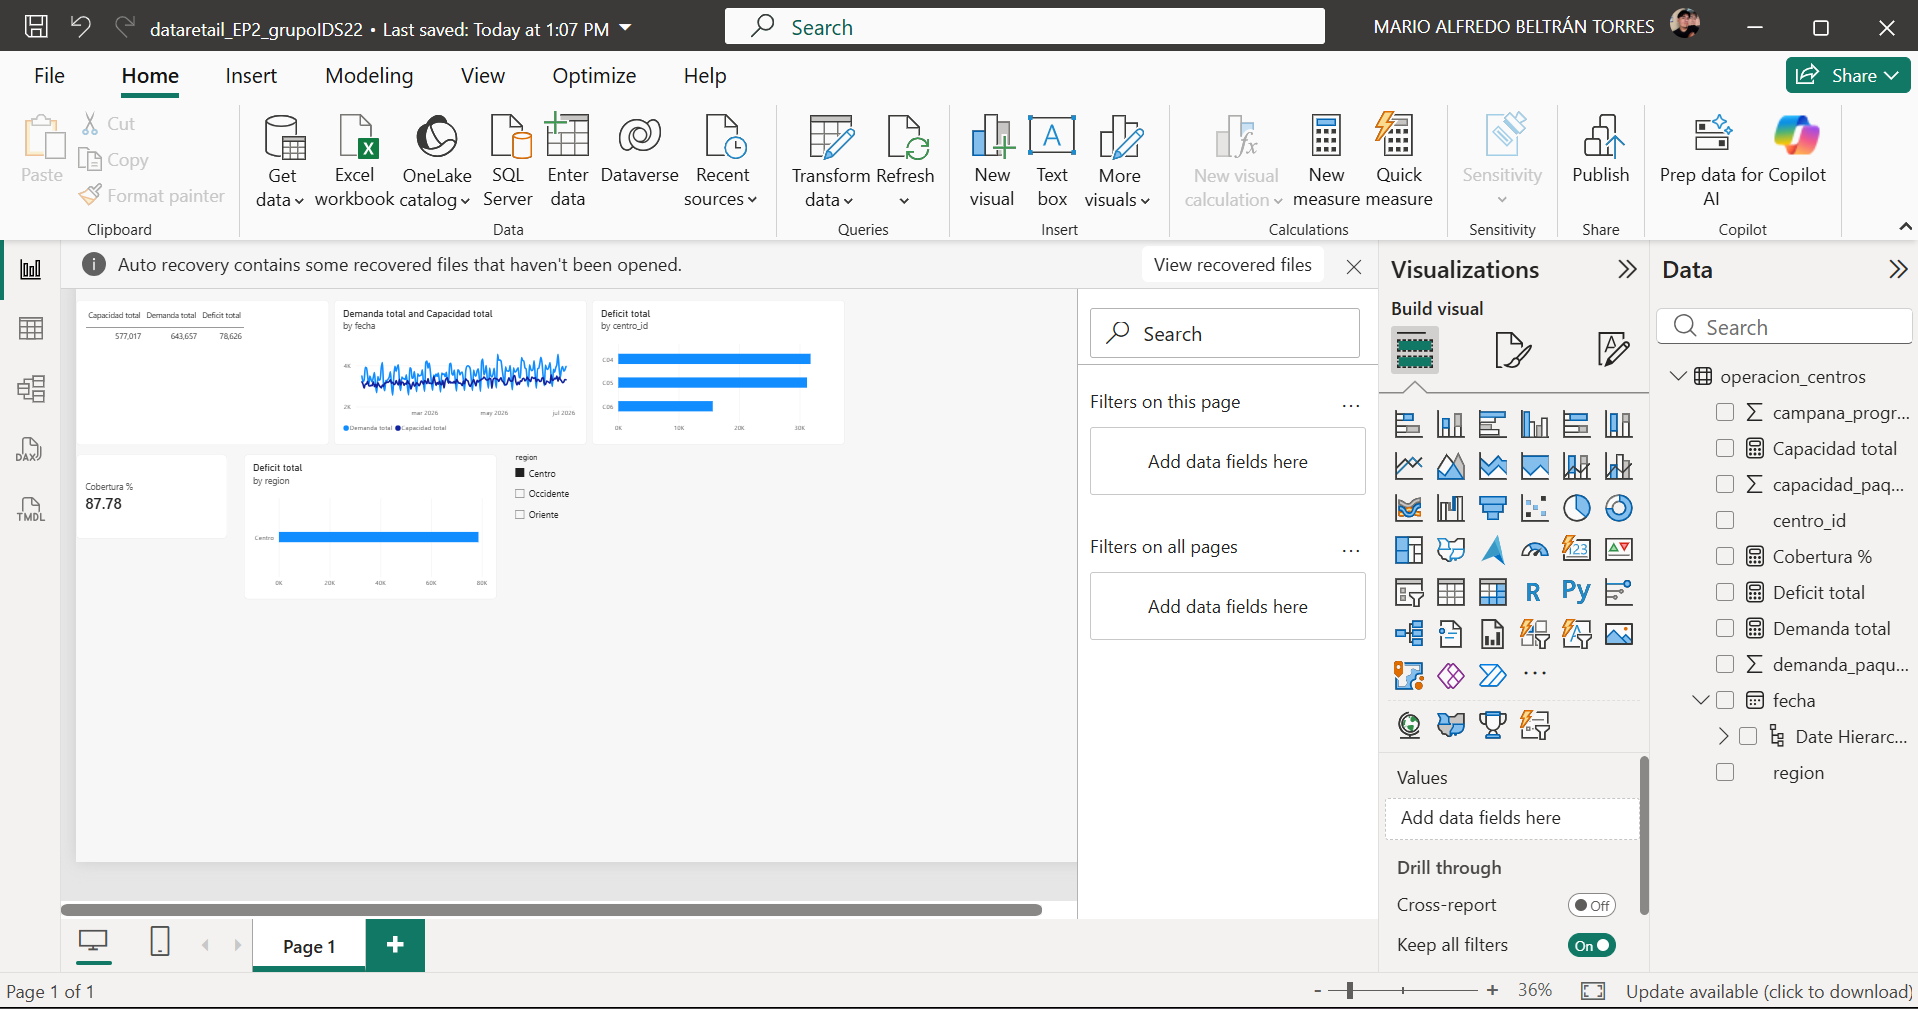

The page's visual inventory and layout, read from the dashboard file:
{"tool":"powerbi","page":{"name":"Page 1","canvas":[1920,1080],"ordinal":0},"visuals":[{"type":"cardVisual","fields":{"Data":["operacion_centros.Cobertura %"]},"box":[0,324.6,280.7,156.1],"z":3},{"type":"tableEx","fields":{"Values":["operacion_centros.Capacidad total","operacion_centros.Demanda total","operacion_centros.Deficit total"]},"box":[0,38.6,468.4,268.4],"z":4},{"type":"lineChart","fields":{"Category":["operacion_centros.fecha"],"Y":["operacion_centros.Demanda total","operacion_centros.Capacidad total"]},"box":[478,39,468,268],"z":5},{"type":"clusteredBarChart","fields":{"Category":["operacion_centros.region"],"Y":["operacion_centros.Deficit total"]},"box":[0,614.9,468,268],"z":6},{"type":"clusteredBarChart","fields":{"Category":["operacion_centros.centro_id"],"Y":["operacion_centros.Deficit total"]},"box":[361.7,325.5,468,268],"z":7},{"type":"slicer","fields":{"Values":["operacion_centros.region"]},"box":[478.7,614.9,468,268],"z":8}]}

Visuals, with their boxes on the page's 1920x1080 design canvas (x1, y1, x2, y2). These are canvas units, not pixel positions in the 1918x1009 screenshot, which may show the page scaled, cropped or inside an application window:
cardVisual - operacion_centros.Cobertura %: bbox=[0, 325, 281, 481]
tableEx - operacion_centros.Capacidad total x operacion_centros.Demanda total: bbox=[0, 39, 468, 307]
lineChart - operacion_centros.fecha x operacion_centros.Demanda total: bbox=[478, 39, 946, 307]
clusteredBarChart - operacion_centros.region x operacion_centros.Deficit total: bbox=[0, 615, 468, 883]
clusteredBarChart - operacion_centros.centro_id x operacion_centros.Deficit total: bbox=[362, 326, 830, 594]
slicer - operacion_centros.region: bbox=[479, 615, 947, 883]
